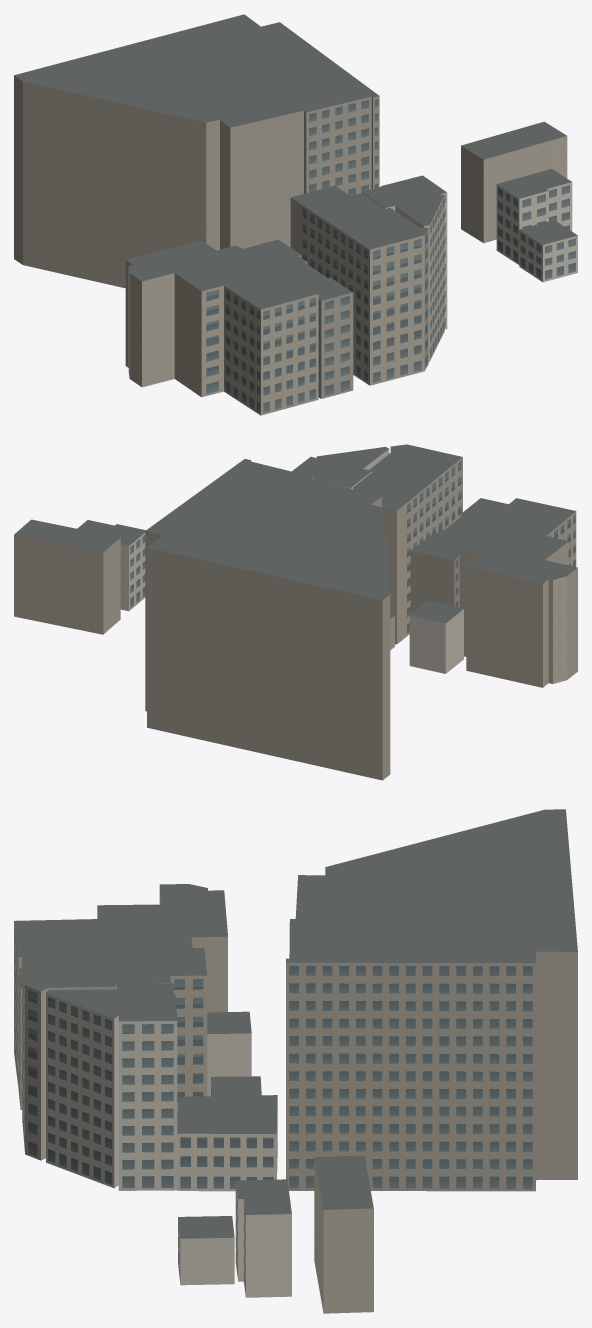
The picture shows the model from 3 angles, top to bottom: view 1: azimuth 30°, elevation 25°; view 2: azimuth 150°, elevation 25°; view 3: azimuth 270°, elevation 25°; orthographic projection. The views are drawn at different scales.
Visible parts, largest first — view 1: cell-e008-n000_base_tile-wall, cell-e008-n000_base_roof, cell-e008-n000_base_stone, cell-e008-n000_base_glass, cell-e008-n000_base_plaster; view 2: cell-e008-n000_base_tile-wall, cell-e008-n000_base_roof, cell-e008-n000_base_stone, cell-e008-n000_base_plaster, cell-e008-n000_base_glass; view 3: cell-e008-n000_base_roof, cell-e008-n000_base_tile-wall, cell-e008-n000_base_glass, cell-e008-n000_base_plaster, cell-e008-n000_base_stone.
Boxes of the visible parts, x1,y1,x2,y2 form: cell-e008-n000_base_tile-wall: (14,75,379,398); cell-e008-n000_base_roof: (14,14,577,309); cell-e008-n000_base_stone: (125,136,567,415); cell-e008-n000_base_glass: (206,99,575,412); cell-e008-n000_base_plaster: (362,182,577,361); cell-e008-n000_base_tile-wall: (145,461,463,780); cell-e008-n000_base_roof: (14,444,577,623); cell-e008-n000_base_stone: (14,447,577,687); cell-e008-n000_base_plaster: (120,449,463,673); cell-e008-n000_base_glass: (130,461,575,633); cell-e008-n000_base_roof: (14,809,577,1238); cell-e008-n000_base_tile-wall: (18,951,577,1191); cell-e008-n000_base_glass: (14,915,532,1292); cell-e008-n000_base_plaster: (46,988,291,1297); cell-e008-n000_base_stone: (14,888,373,1313).
Bounding box in the file's own units: 117 × 41.63 × 93.24.
Materials: 5 (4 with a texture image).
